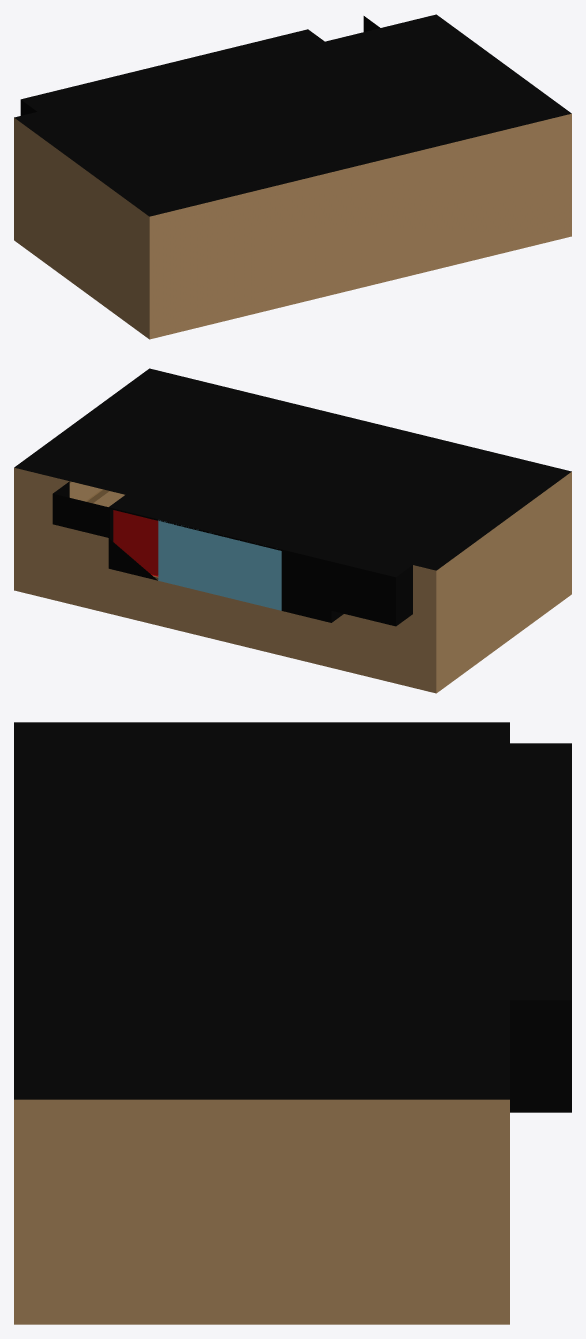
File: BalconyStage.glb
The picture shows the model from 3 angles, top to bottom: view 1: azimuth 30°, elevation 25°; view 2: azimuth 150°, elevation 25°; view 3: azimuth 270°, elevation 25°; orthographic projection. The views are drawn at different scales.
Visible parts, largest first — view 1: Walls, Valence Shell, Backdrop; view 2: Walls, Backdrop, Backdrop Image, Valence Shell, Plane; view 3: Walls, Valence Shell, Backdrop.
Boxes of the visible parts, box(x1,y1,x2,y2) form: Walls: box(14, 14, 571, 339); Valence Shell: box(85, 29, 331, 102); Backdrop: box(20, 16, 379, 115); Walls: box(14, 368, 571, 693); Backdrop: box(52, 481, 412, 626); Backdrop Image: box(158, 520, 281, 610); Valence Shell: box(108, 488, 354, 619); Plane: box(113, 510, 158, 575); Walls: box(14, 722, 509, 1324); Valence Shell: box(466, 801, 571, 1106); Backdrop: box(510, 743, 571, 1112).
Size of the model in its own units: 14.4 by 4 by 9.
